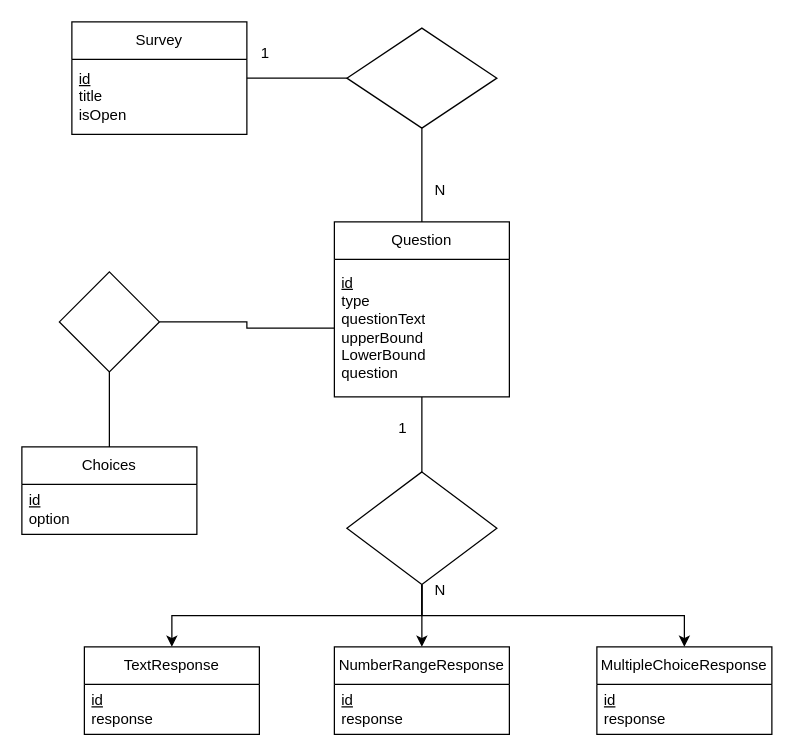
This 794x756 diagram has some shape labels left out. Each missing label, with the centre of its shape:
"Choices For" belongs at pixel 108 321.
"Holds Questions" belongs at pixel 421 77.
"Holds Responses" belongs at pixel 421 527.
